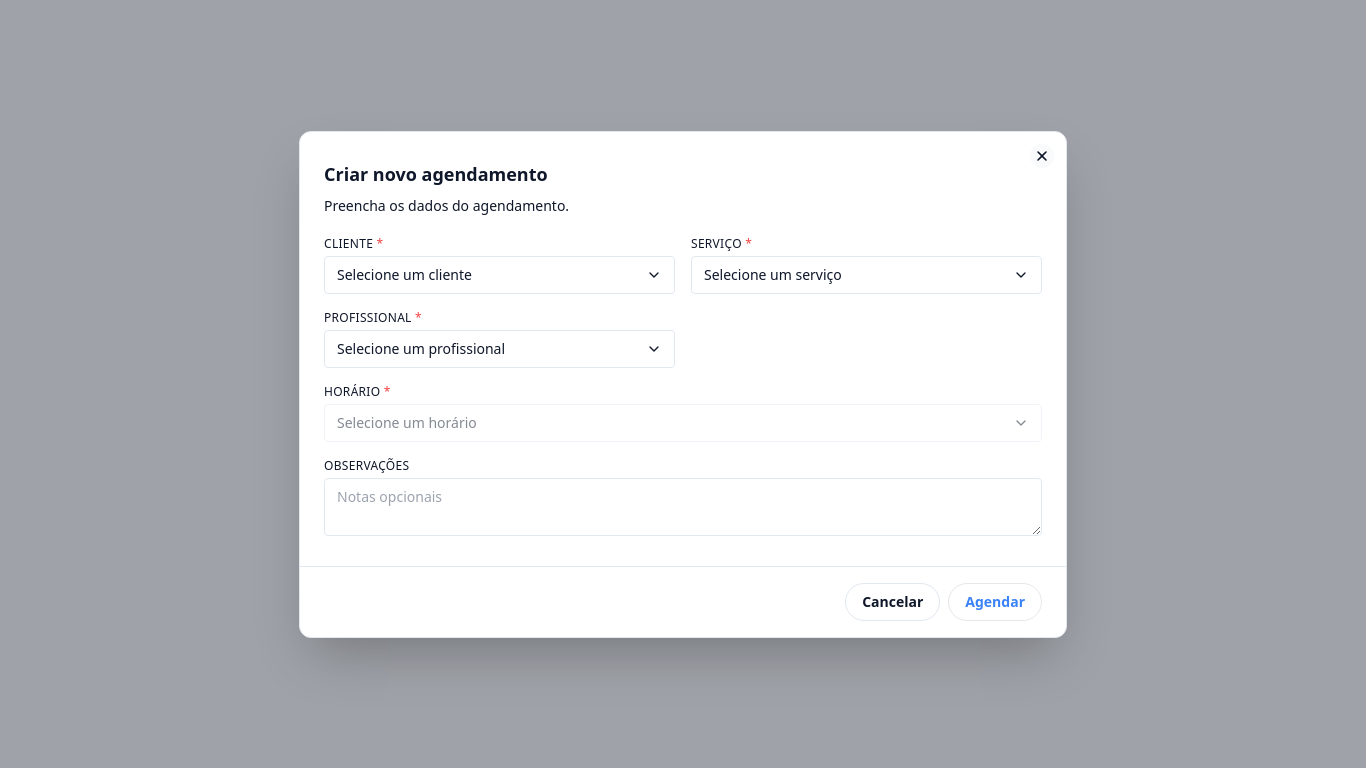
Scenario: AppointmentModal - seletor de horário baseado em slots disponíveis › mostra aviso quando o profissional não tem horários disponíveis
Click the button "Selecione um profissional". click: point(500, 348)
box: x1=324 y1=330 x2=675 y2=368
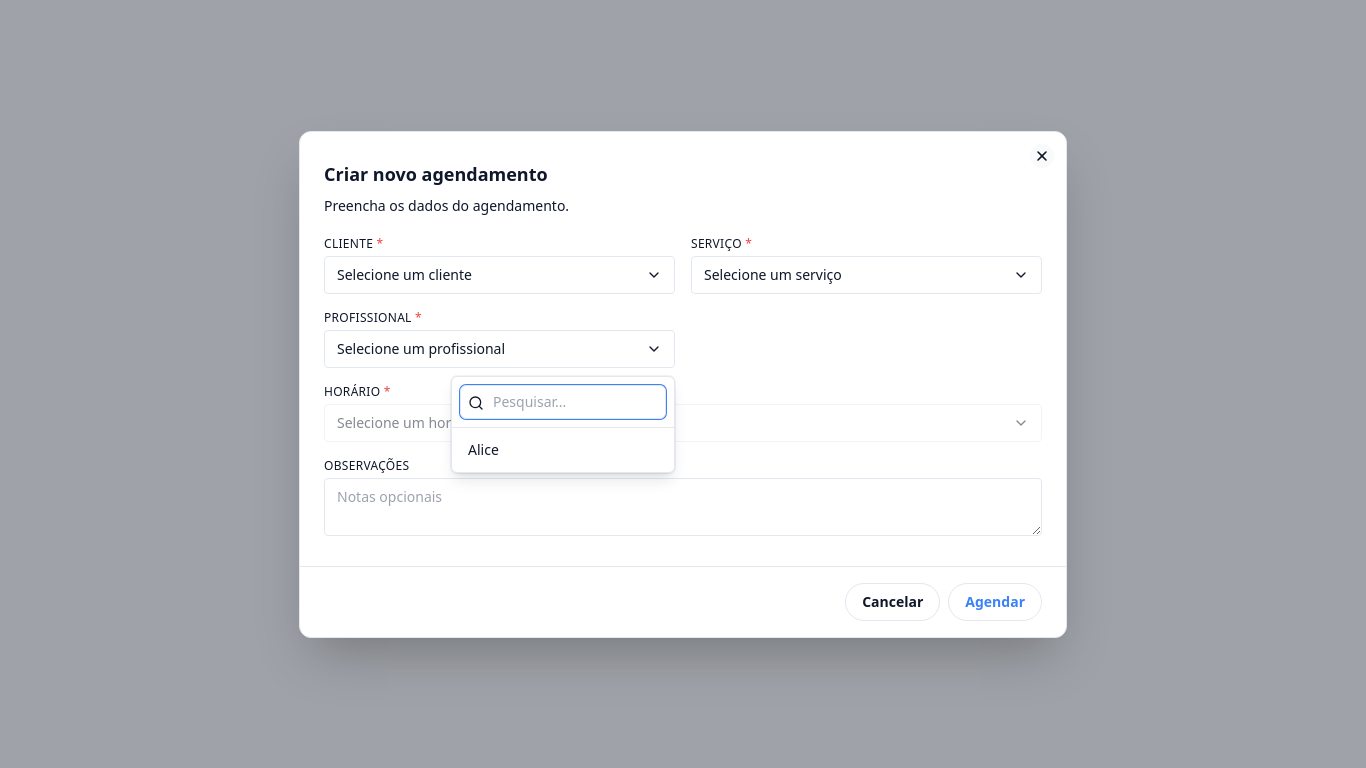
Expected: the field with placeholder "Pesquisar..." is shown, x1=460 y1=384 x2=666 y2=418
Click the button "Alice". click: point(563, 450)
box: x1=452 y1=432 x2=674 y2=468
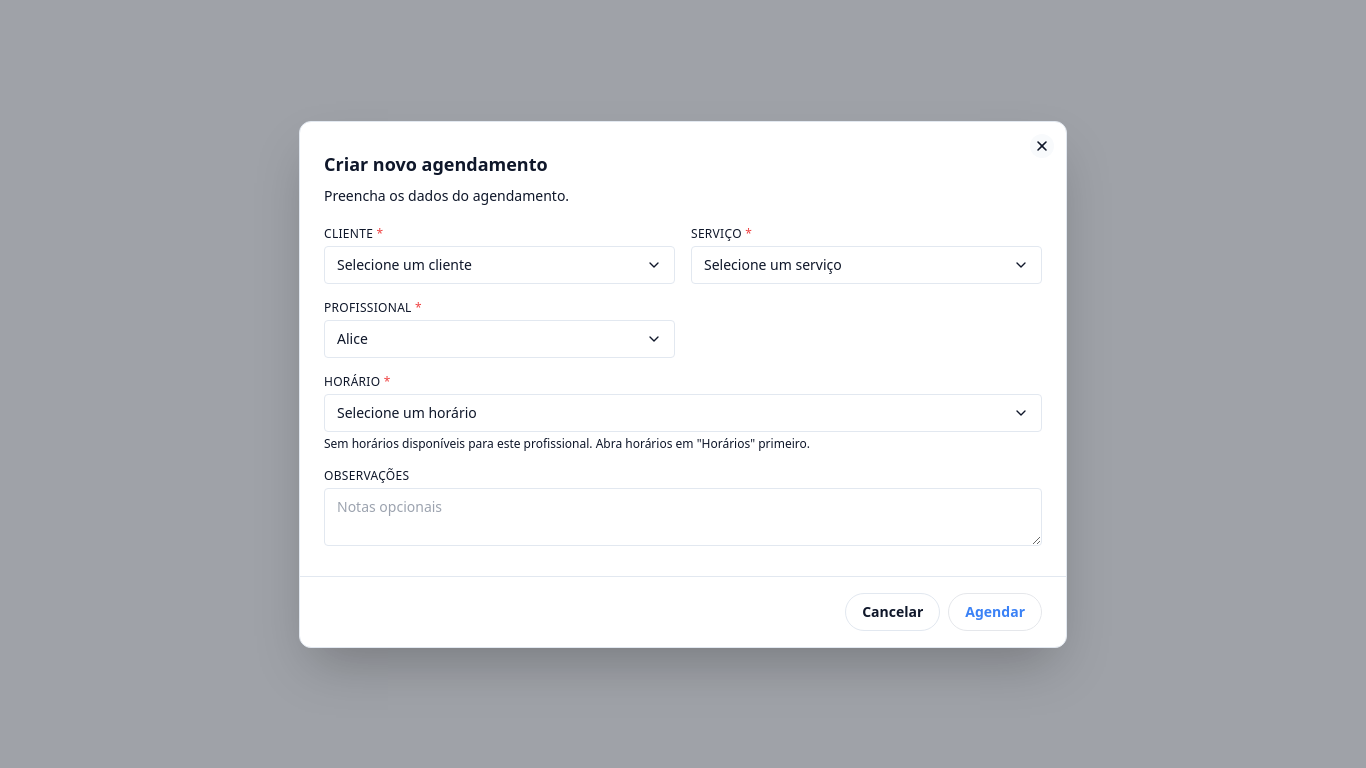
Expected: the text "Sem horários disponíveis" is shown, x1=324 y1=434 x2=810 y2=452
